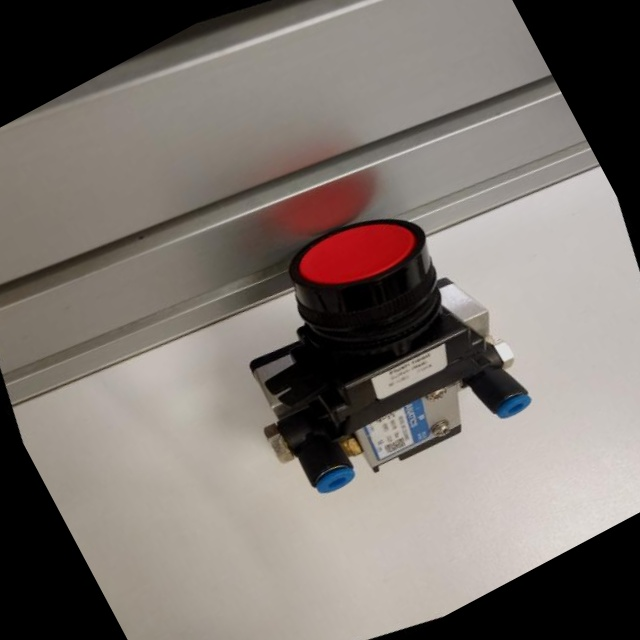push button: (169, 142, 584, 551)
